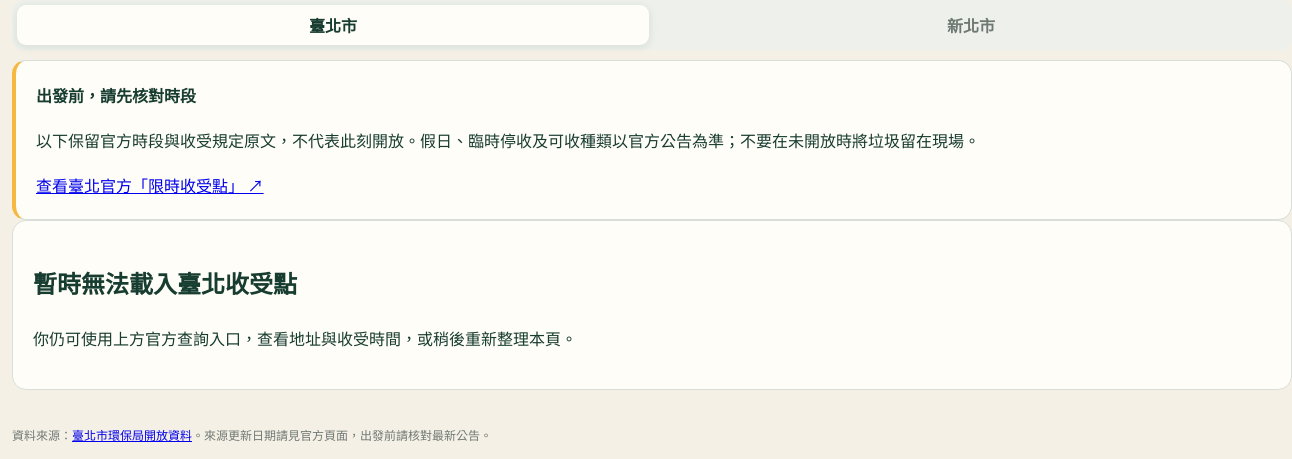
it: 台北載入失敗保留官方入口，新北不冒充已有站點列表
Expected: the heading "暫時無法載入臺北收受點" is shown, [33,265,297,300]
Expected: the link "查看臺北官方「限時收受點」 ↗" is shown, [36,173,264,197]
Click the button "新北市" at (971, 25), box [655,5,1287,45]
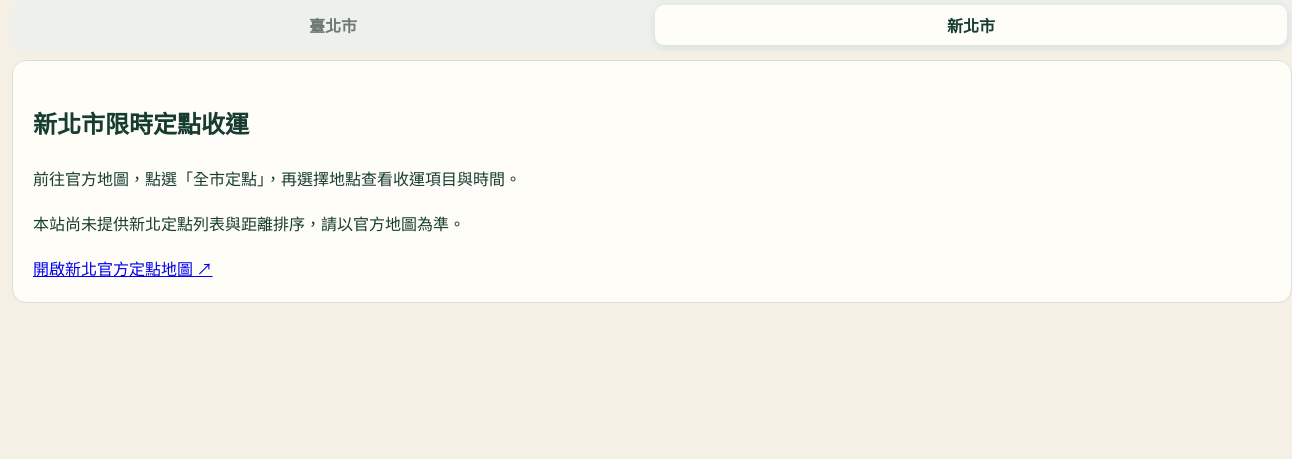
Result: the link "開啟新北官方定點地圖 ↗" is shown at [33,256,213,280]
